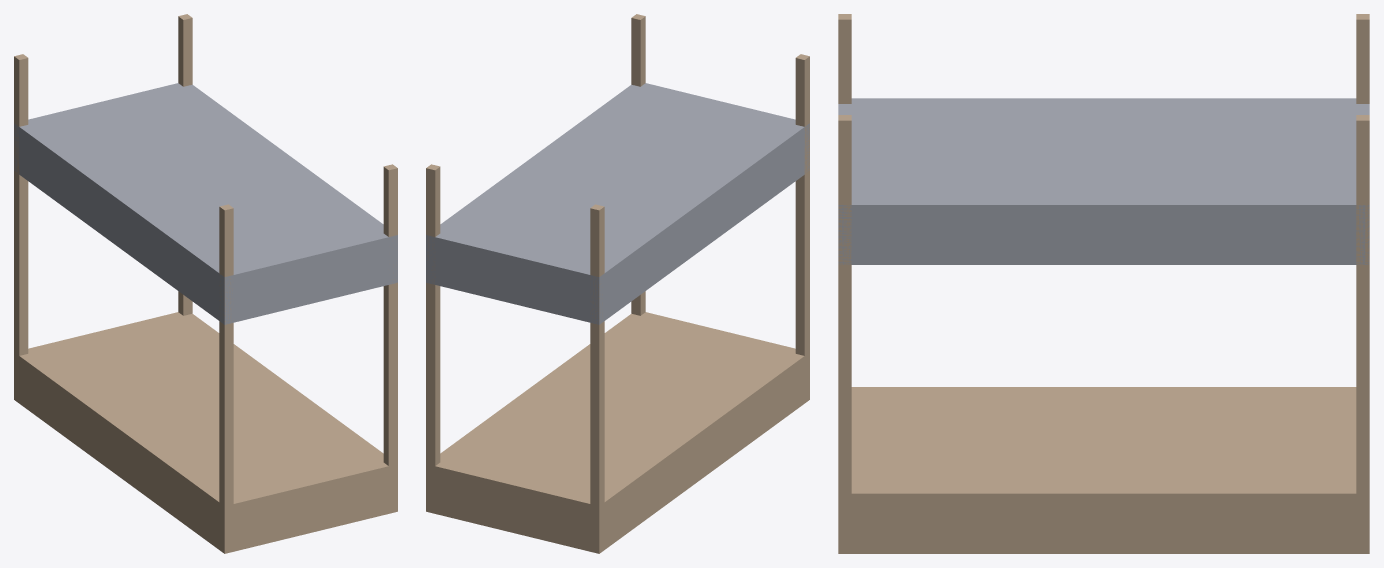
Rendered from bed_loft_child.glb.
3 views of the same model, side by side, from view 1: azimuth 30°, elevation 25°; view 2: azimuth 150°, elevation 25°; view 3: azimuth 270°, elevation 25° (orthographic). The views are drawn at different scales.
Parts seen in each view (by area): view 1: bed_loft_child; view 2: bed_loft_child; view 3: bed_loft_child.
Boxes of the visible parts, x1,y1,x2,y2 form: bed_loft_child: (14,14,397,553); bed_loft_child: (426,14,809,553); bed_loft_child: (838,14,1369,553).
Size of what is drawn, in the model's own units: 0.95 by 1.8 by 2.
